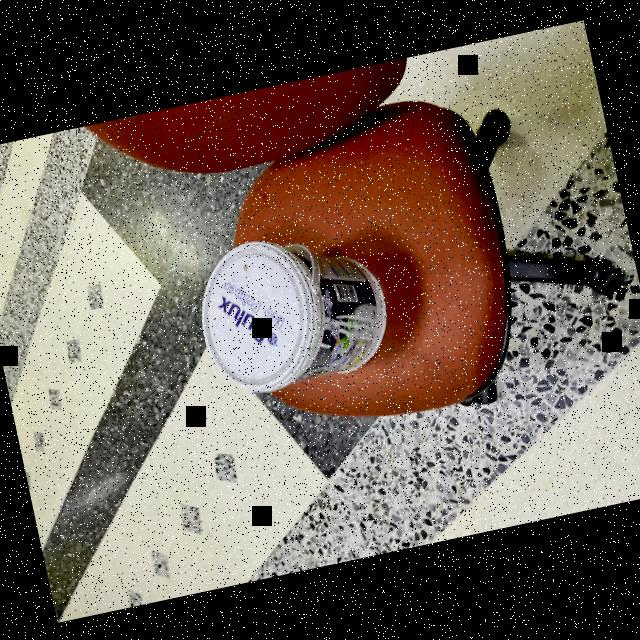paint_bucket: (183, 212, 403, 406)
